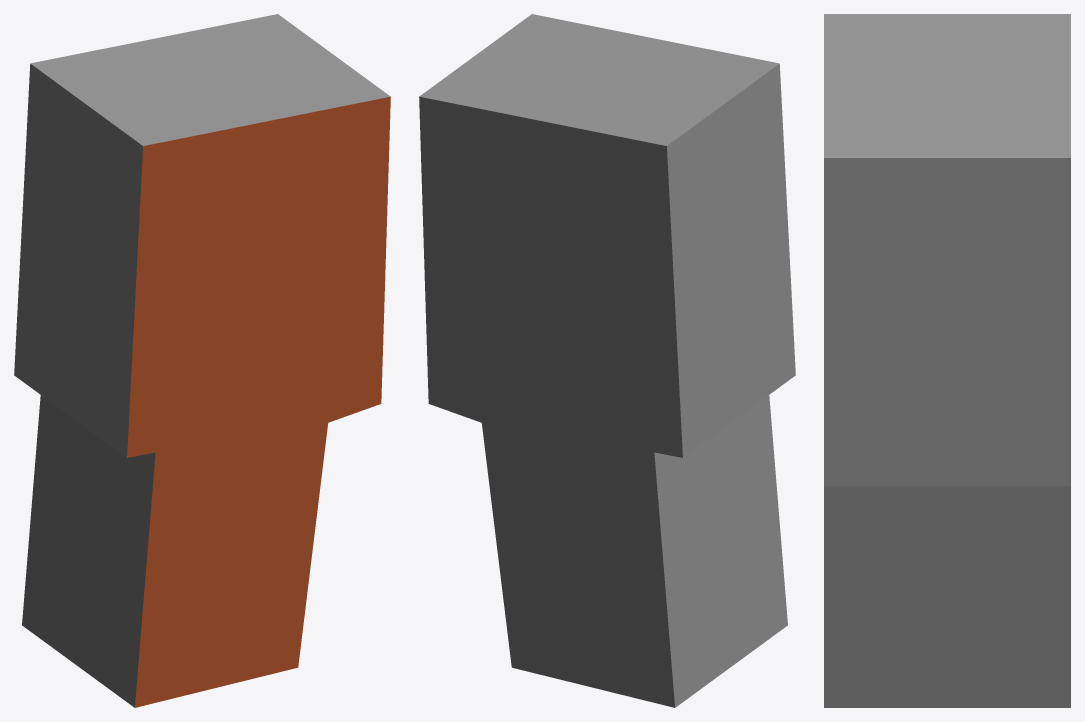
File: construction_6992_assumed_A_Casa_h6m.obj
3 renders of one model, left to right at view 1: azimuth 30°, elevation 25°; view 2: azimuth 150°, elevation 25°; view 3: azimuth 270°, elevation 25°, orthographic. The views are drawn at different scales.
Visible parts, largest first — view 1: construction_6992_assumed_A_Casa; view 2: construction_6992_assumed_A_Casa; view 3: construction_6992_assumed_A_Casa.
Boxes of the visible parts, x1,y1,x2,y2 form: construction_6992_assumed_A_Casa: [14, 14, 390, 707]; construction_6992_assumed_A_Casa: [419, 14, 795, 707]; construction_6992_assumed_A_Casa: [824, 14, 1070, 707].
Bounding box in the file's own units: 8.1 × 16.42 × 6.
